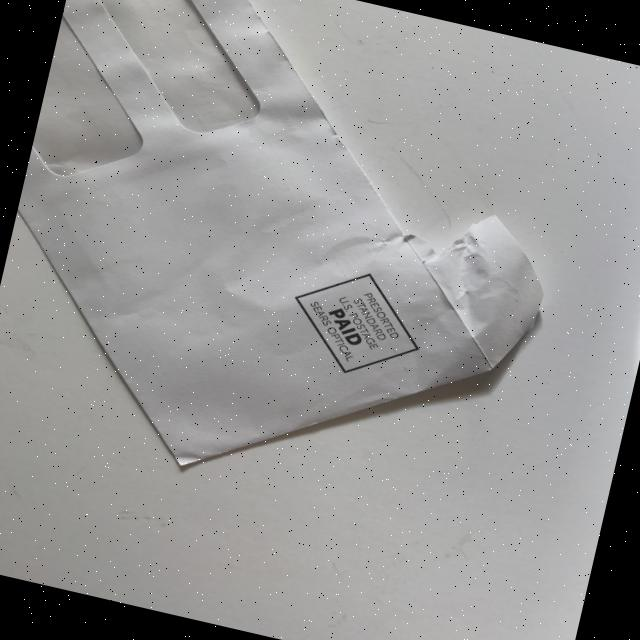paper: (0, 0, 600, 538)
